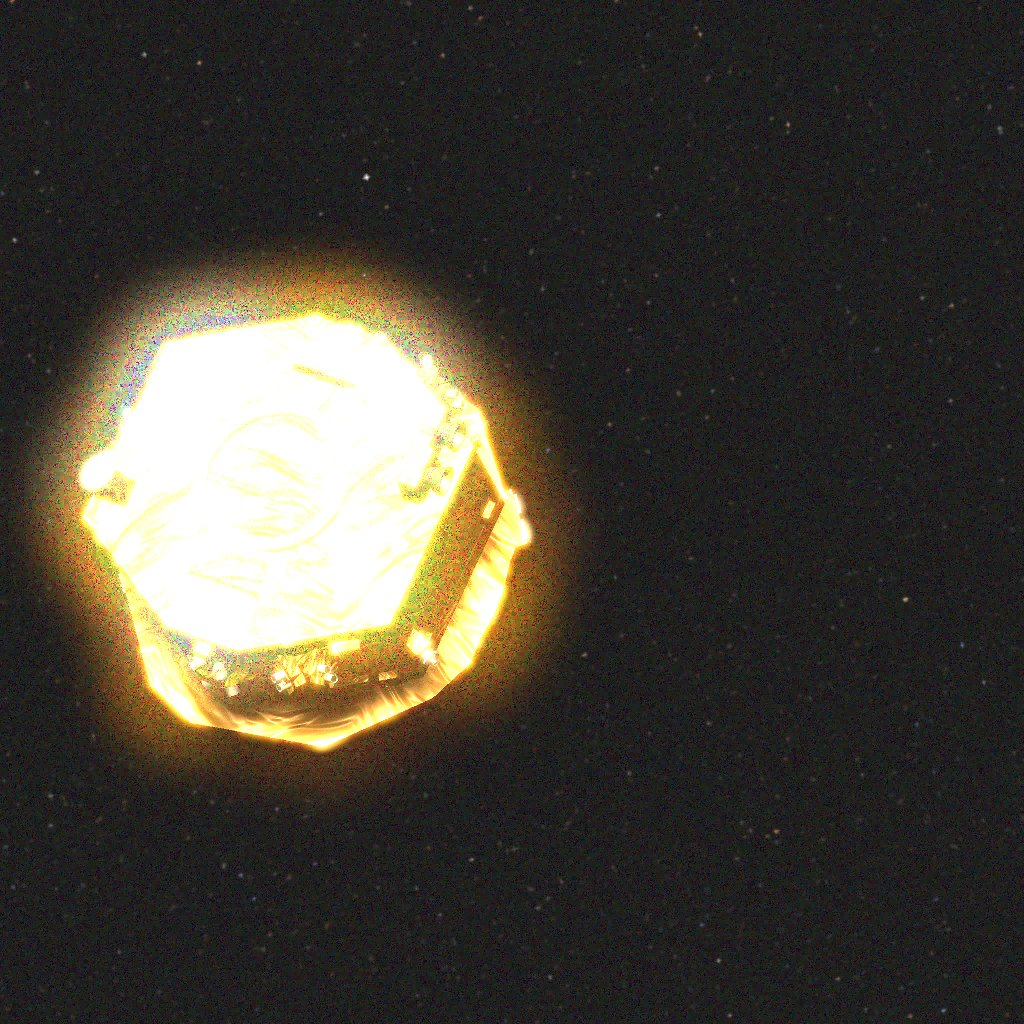lisa_pathfinder: (82, 316, 531, 749)
